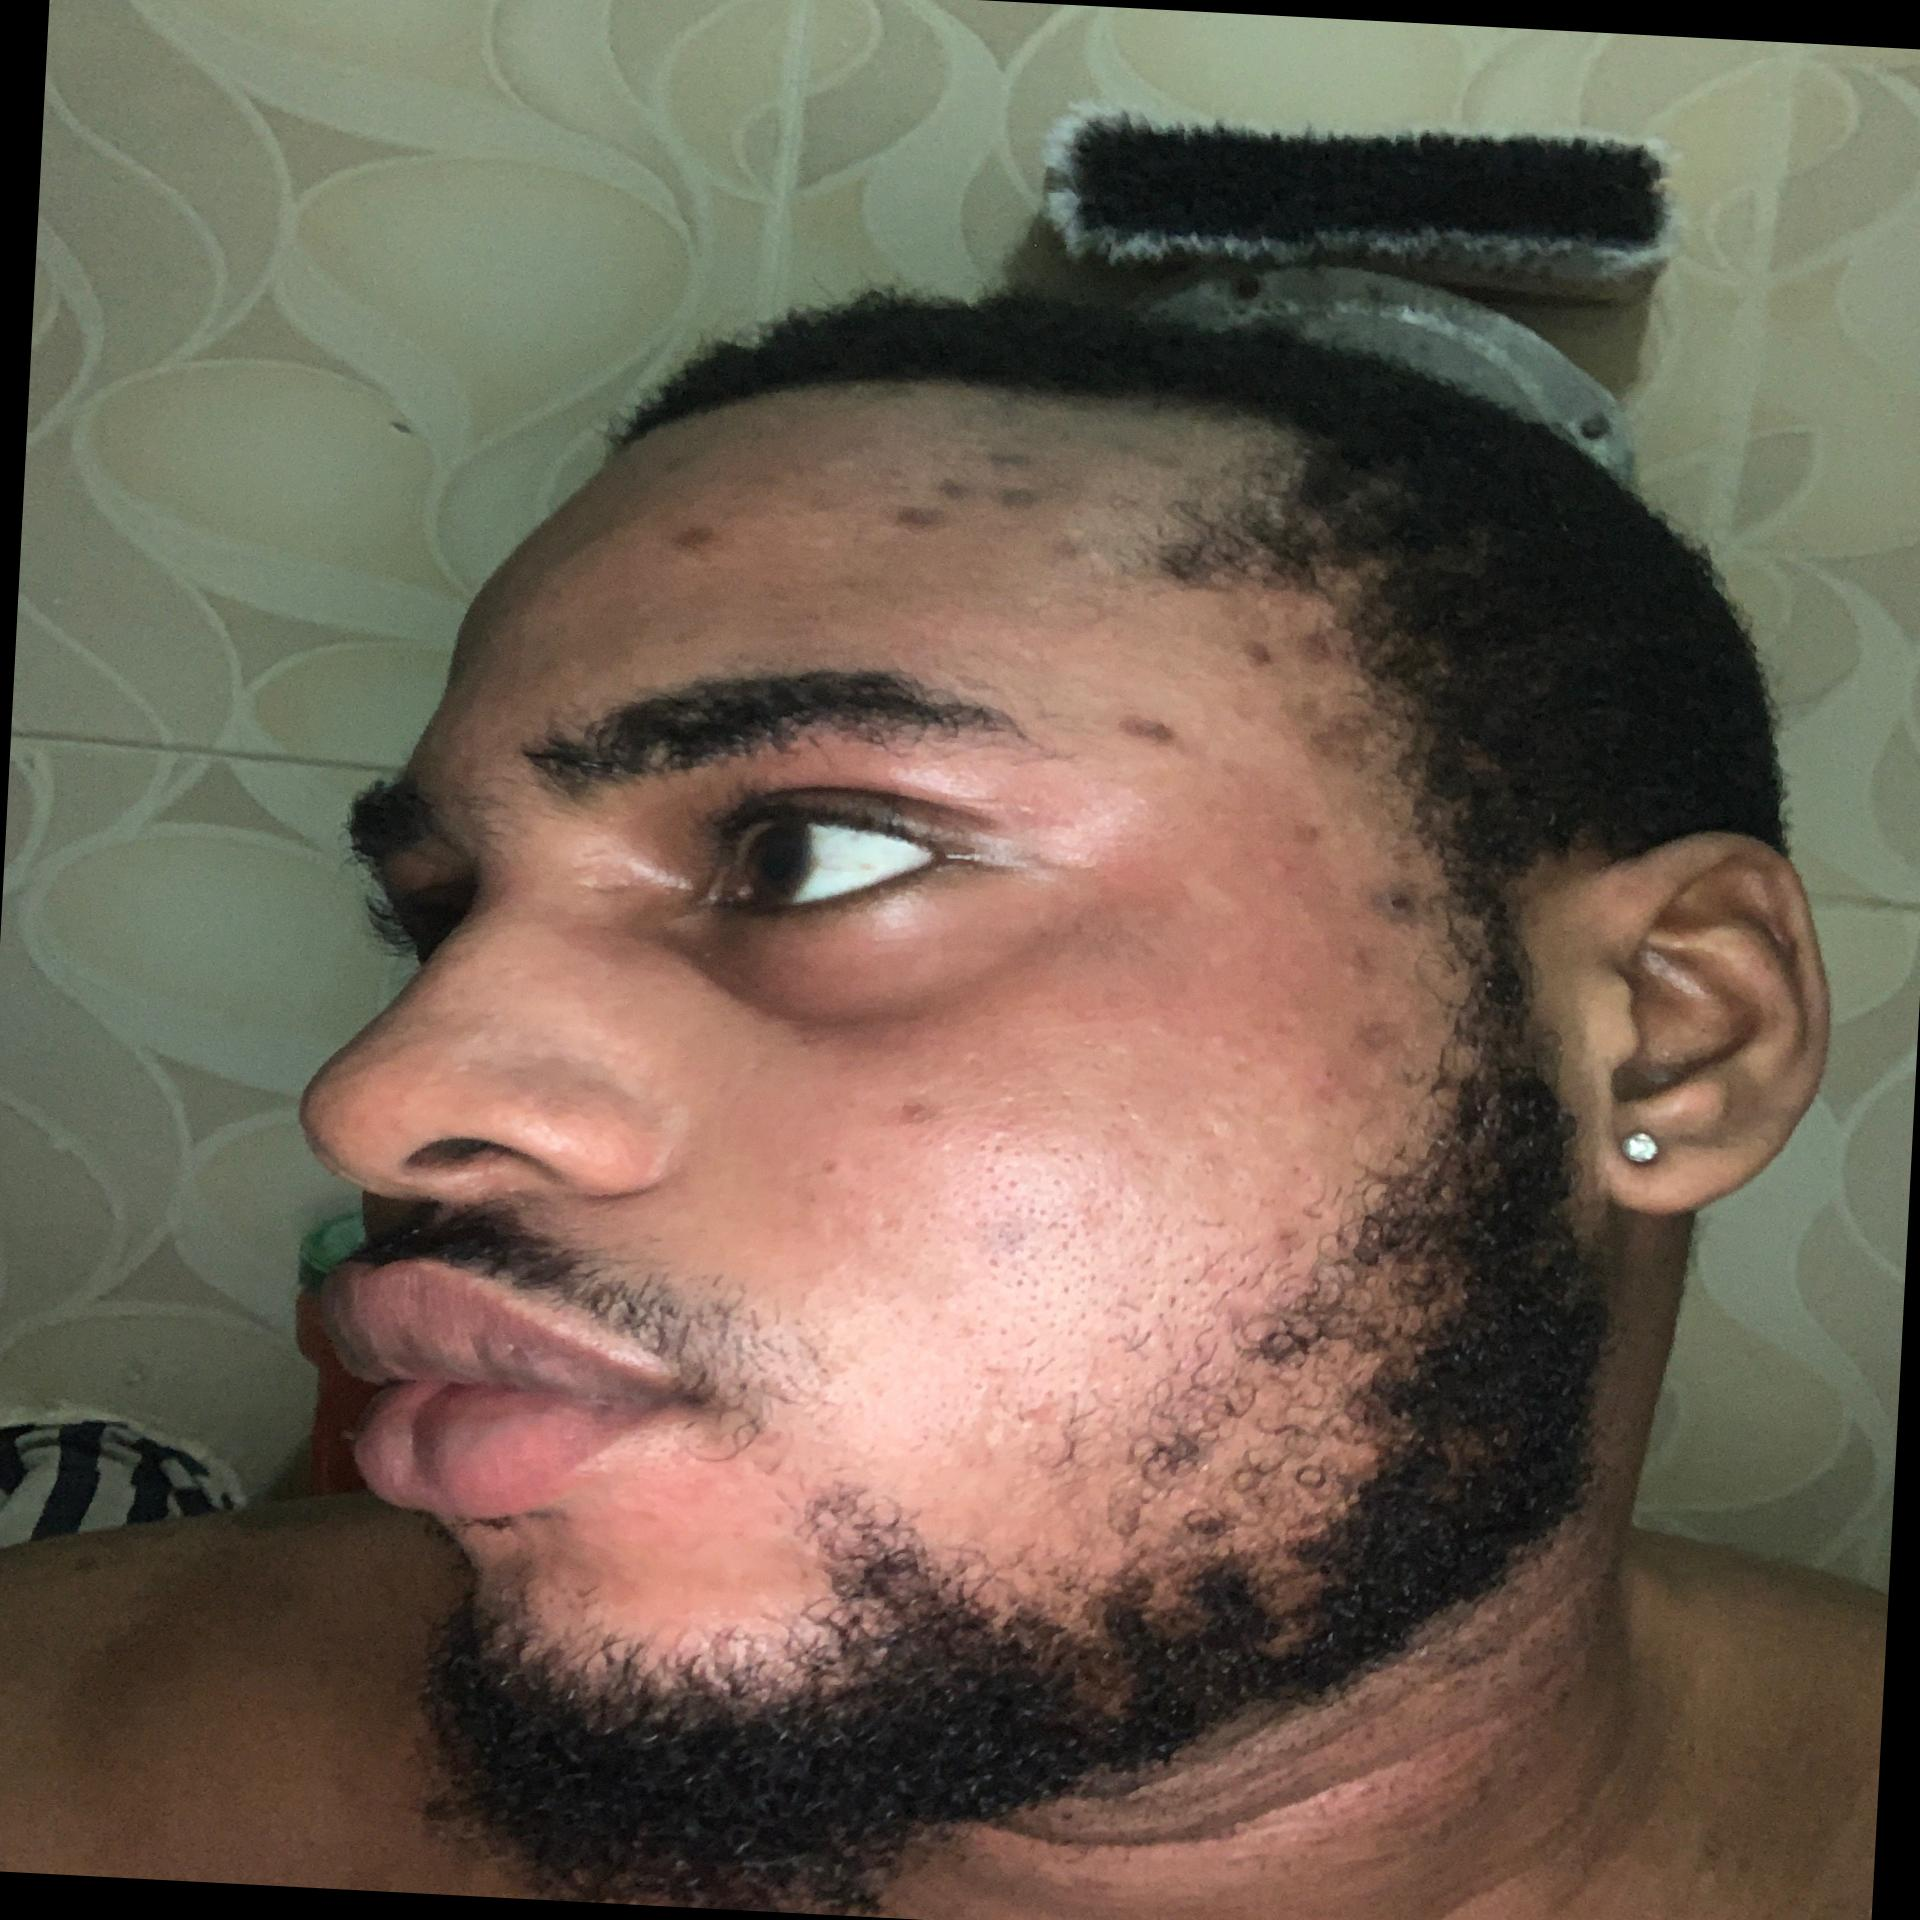Acne: (874, 434, 1046, 556), (1320, 870, 1428, 990), (1227, 619, 1340, 728), (1284, 700, 1378, 781), (1336, 1016, 1422, 1069), (1108, 700, 1187, 753), (1099, 438, 1210, 475), (654, 519, 733, 557), (1036, 526, 1094, 568), (1306, 1074, 1356, 1116), (1092, 489, 1155, 519), (884, 1097, 942, 1129), (1301, 814, 1335, 863), (642, 447, 700, 475), (805, 1150, 842, 1178)
Dark Circles: (640, 867, 1085, 1053)
Englarged Pores: (900, 1122, 1247, 1373), (902, 1363, 1034, 1461)
